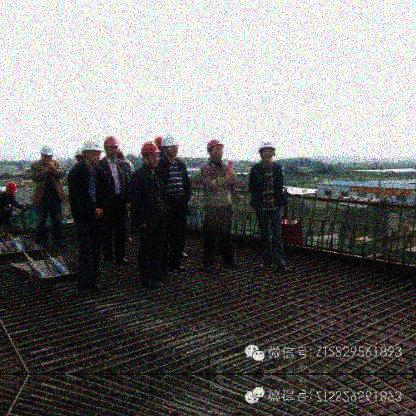helmet: (140, 141, 161, 168), (82, 140, 103, 166), (160, 133, 181, 157), (256, 141, 277, 162), (206, 139, 225, 160), (102, 136, 120, 157), (39, 142, 55, 164), (5, 181, 17, 198), (73, 147, 83, 163)
